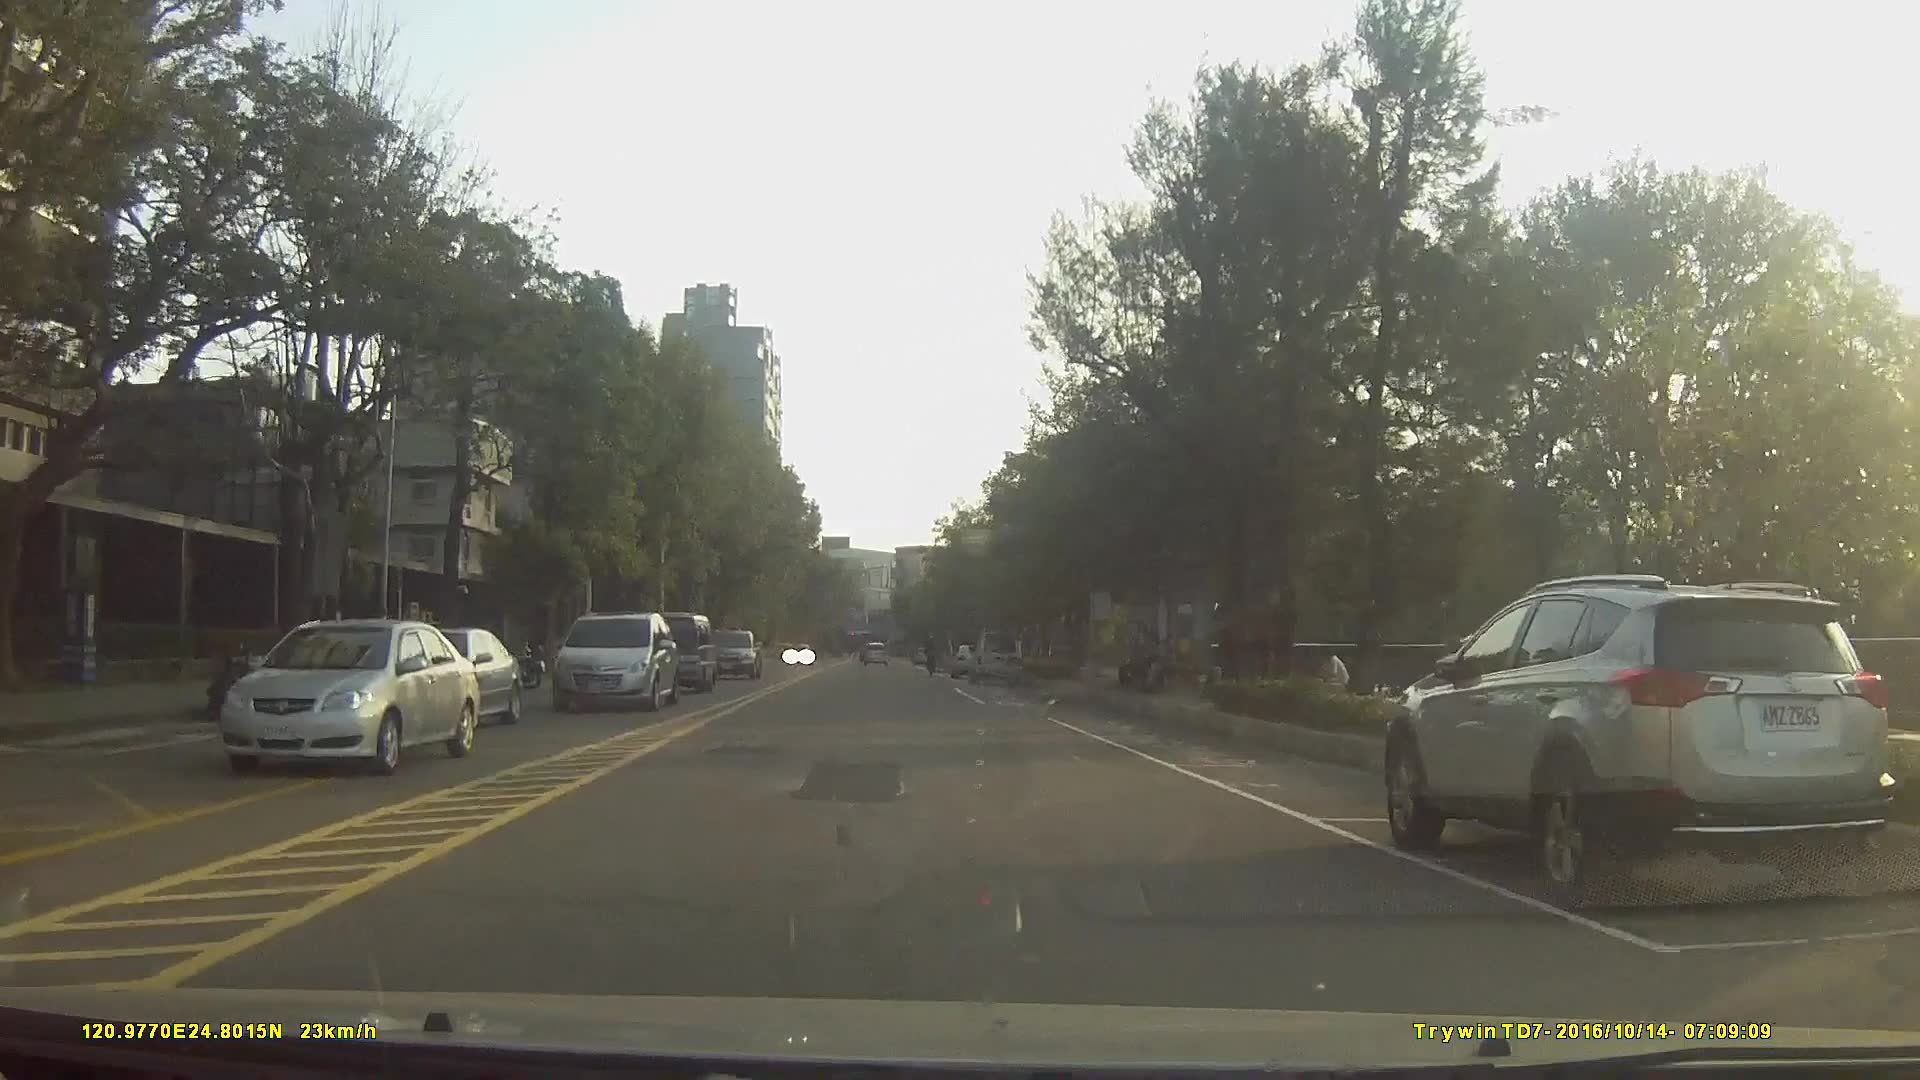rider: (922, 634, 942, 679)
vehicle: (1381, 569, 1894, 905), (213, 616, 479, 774), (389, 624, 523, 731), (548, 611, 678, 712), (626, 610, 713, 689), (964, 625, 1027, 678), (704, 626, 760, 677), (947, 640, 983, 677), (858, 637, 888, 667)
